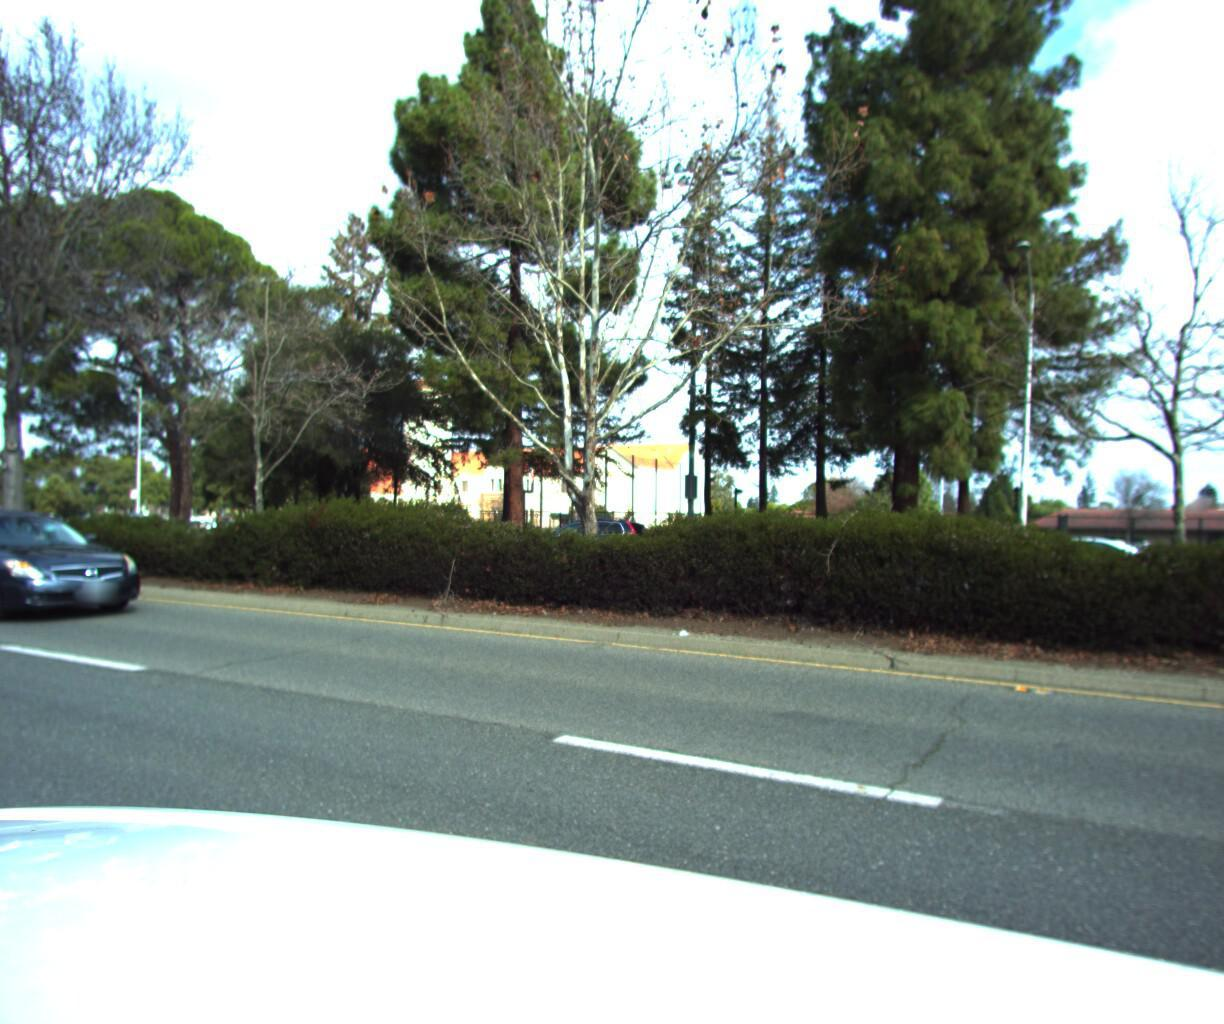car: (0, 504, 159, 630), (957, 528, 1167, 598), (511, 509, 661, 567)
